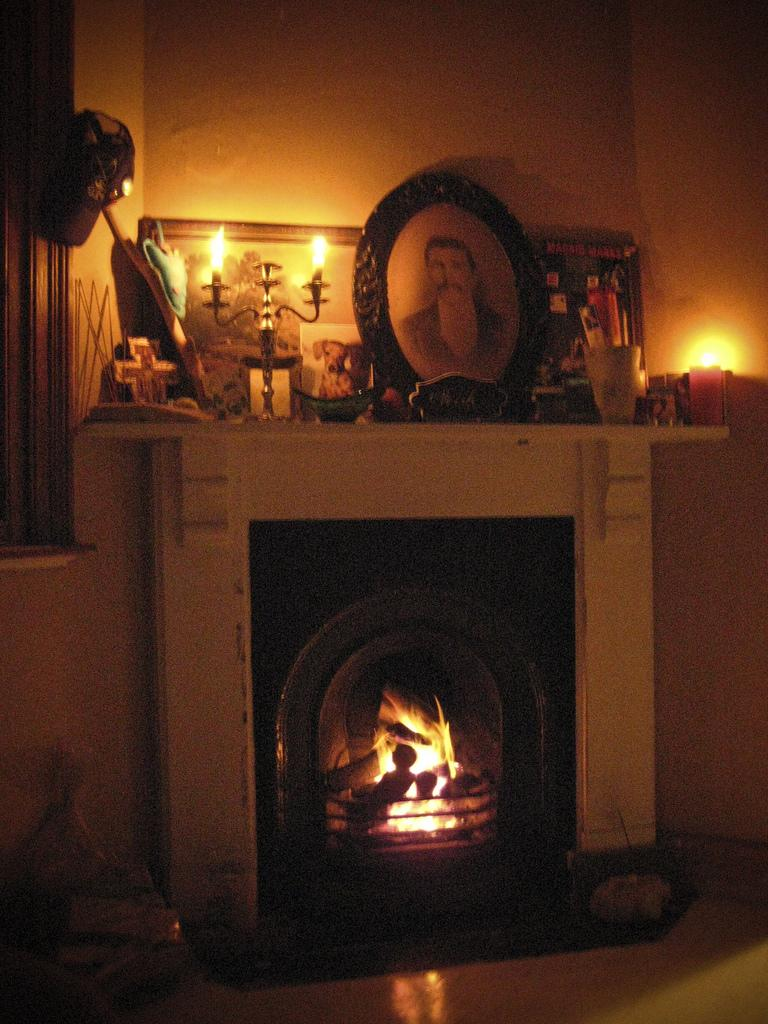fire: (380, 728, 432, 790), (302, 228, 340, 288), (680, 340, 742, 362), (202, 232, 230, 272)
